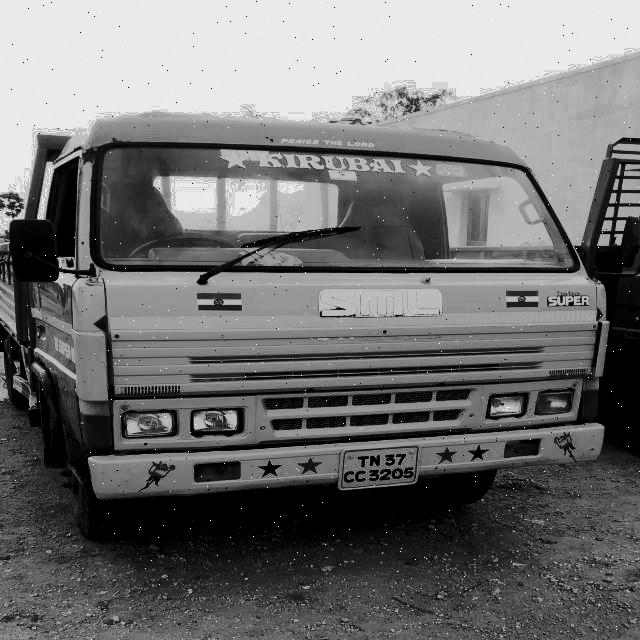HCV: (41, 105, 640, 560)
